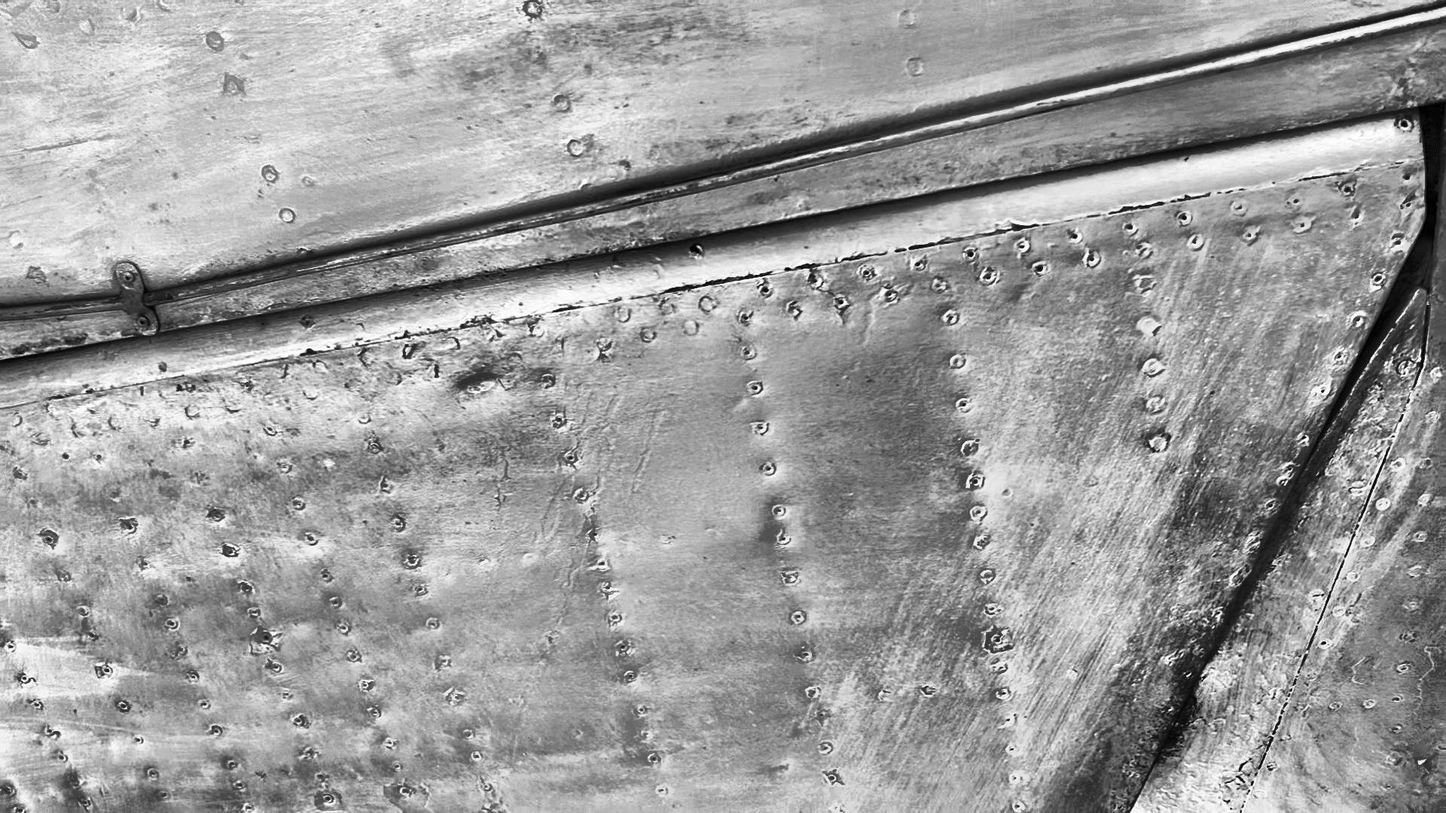dent: (458, 371, 503, 395)
